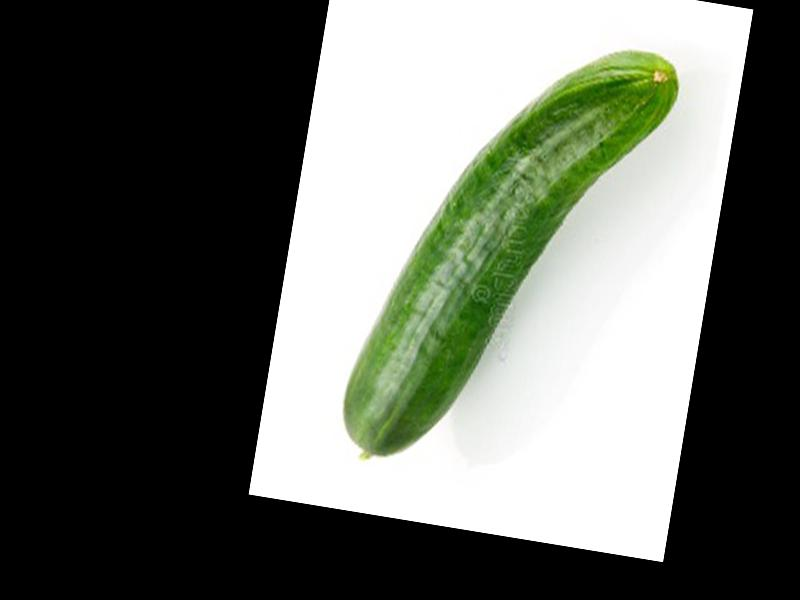Cucumber: (336, 13, 683, 494)
